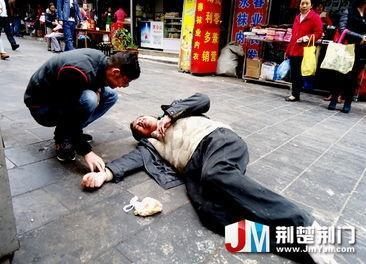Fall-Detected: (68, 88, 341, 254)
